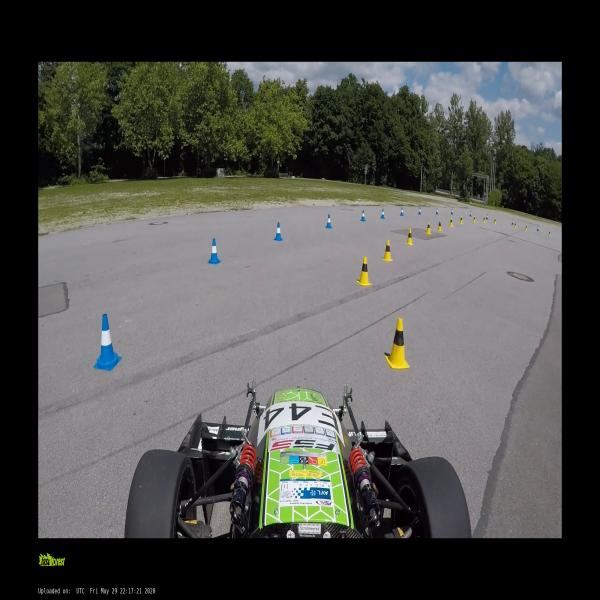blue_cone: (95, 315, 121, 369), (208, 239, 220, 263), (274, 222, 283, 241), (325, 214, 332, 229), (360, 210, 366, 222), (380, 209, 386, 220), (399, 208, 404, 216), (450, 208, 454, 216), (536, 225, 540, 232), (417, 208, 421, 215), (468, 211, 472, 217), (485, 214, 489, 220), (435, 208, 438, 215), (510, 220, 514, 225)
yellow_cone: (385, 320, 409, 370), (355, 256, 372, 288), (380, 240, 393, 262), (405, 228, 414, 246), (425, 222, 431, 236), (436, 220, 443, 232), (448, 217, 454, 228), (458, 216, 463, 225), (472, 216, 476, 224), (524, 224, 528, 231), (492, 218, 496, 225), (547, 231, 551, 238), (513, 222, 517, 229), (482, 217, 485, 224)
